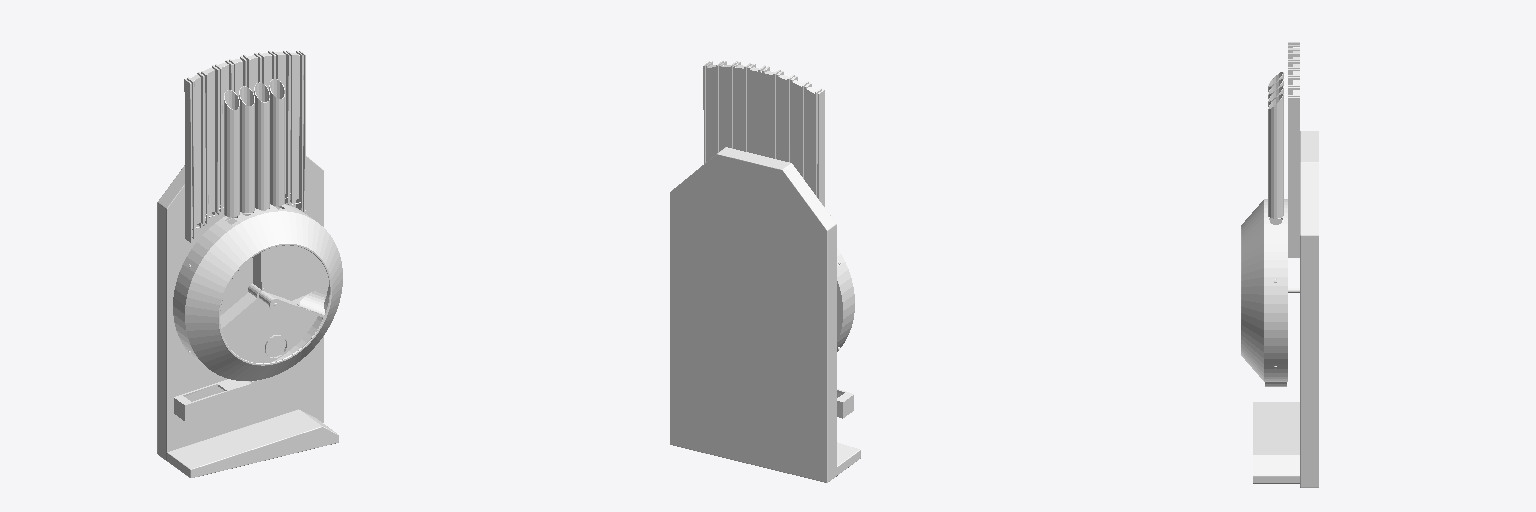
The model's file is rotor2.obj.
3 renders of one model, left to right at view 1: azimuth 30°, elevation 25°; view 2: azimuth 150°, elevation 25°; view 3: azimuth 270°, elevation 25°, orthographic.
Parts seen in each view (by area): view 1: Body_Mesh.002, Volum_Base_Glass_Mesh, export_Glass_Mesh.018, Import_glass_Mesh.007, Import_glass002_Mesh.040, Import_glass003_Mesh.051, Import_glass001_Mesh.029, Rotary_Glass_Mesh.001; view 2: Body_Mesh.002, Volum_Base_Glass_Mesh; view 3: Body_Mesh.002, Volum_Base_Glass_Mesh, Import_glass003_Mesh.051.
Boxes of the visible parts, x1=… form: Body_Mesh.002: x1=157, y1=51, x2=338, y2=477; Volum_Base_Glass_Mesh: x1=173, y1=204, x2=342, y2=380; export_Glass_Mesh.018: x1=174, y1=378, x2=267, y2=420; Import_glass_Mesh.007: x1=224, y1=90, x2=239, y2=216; Import_glass002_Mesh.040: x1=254, y1=82, x2=269, y2=209; Import_glass003_Mesh.051: x1=269, y1=79, x2=284, y2=205; Import_glass001_Mesh.029: x1=239, y1=86, x2=254, y2=212; Rotary_Glass_Mesh.001: x1=220, y1=213, x2=325, y2=330; Body_Mesh.002: x1=670, y1=61, x2=860, y2=482; Volum_Base_Glass_Mesh: x1=837, y1=248, x2=854, y2=351; Body_Mesh.002: x1=1253, y1=42, x2=1318, y2=487; Volum_Base_Glass_Mesh: x1=1241, y1=199, x2=1287, y2=381; Import_glass003_Mesh.051: x1=1268, y1=94, x2=1283, y2=218.
Bounding box in the file's own units: 76.63 × 179 × 32.99.